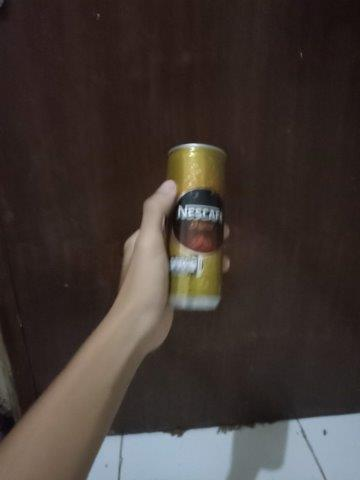kaleng: (165, 143, 227, 309)
